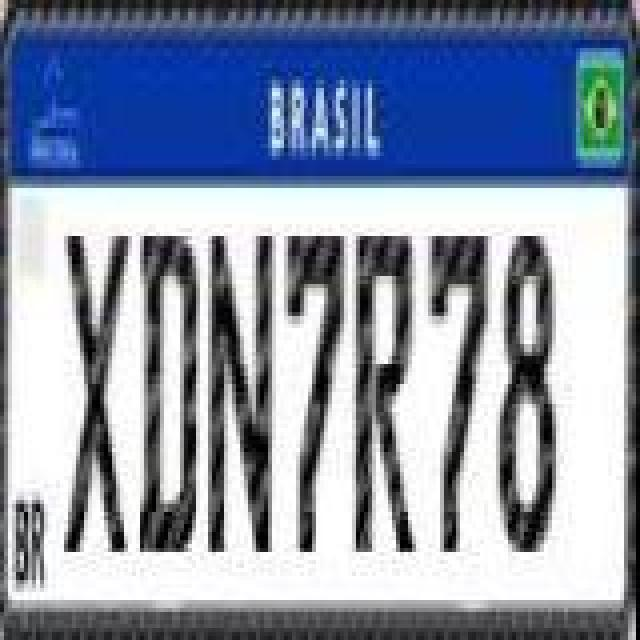7: (426, 230, 490, 554), (284, 230, 344, 554)
8: (494, 224, 558, 560)
D: (140, 230, 200, 554)
N: (208, 230, 276, 554)
R: (354, 230, 418, 554)
X: (64, 230, 132, 554)
